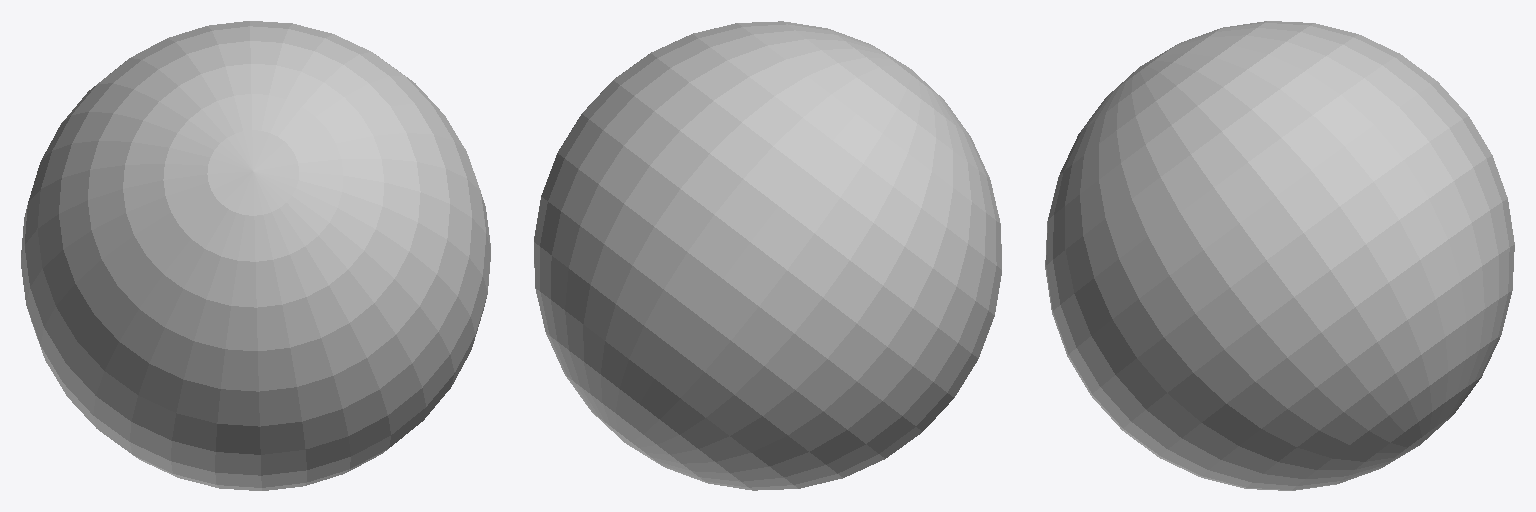
Rendered from earth.obj.
3 views of the same model, side by side, from view 1: azimuth 30°, elevation 25°; view 2: azimuth 150°, elevation 25°; view 3: azimuth 270°, elevation 25° (orthographic).
Visible parts, largest first — view 1: Atmo_Sphere.003; view 2: Atmo_Sphere.003; view 3: Atmo_Sphere.003.
Part boxes in pixels (bbox=[...]): Atmo_Sphere.003: bbox=[21, 21, 490, 490]; Atmo_Sphere.003: bbox=[534, 21, 1001, 490]; Atmo_Sphere.003: bbox=[1045, 21, 1514, 490].
Bounding box in the file's own units: 20.19 × 20.19 × 20.14.